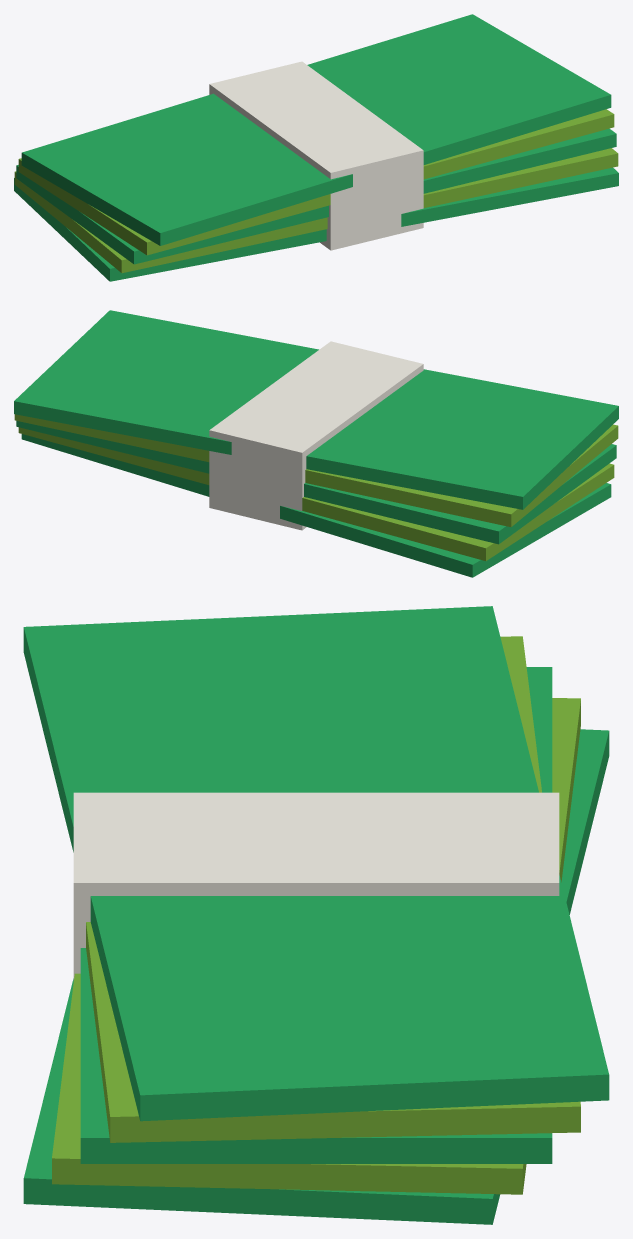
Rendered from PRP_Money.fbx.
The picture shows the model from 3 angles, top to bottom: view 1: azimuth 30°, elevation 25°; view 2: azimuth 150°, elevation 25°; view 3: azimuth 270°, elevation 25°; orthographic projection. The views are drawn at different scales.
Parts seen in each view (by area): view 1: PRP_Money; view 2: PRP_Money; view 3: PRP_Money.
Boxes of the visible parts, x1,y1,x2,y2 form: PRP_Money: (14,14,618,281); PRP_Money: (14,310,618,577); PRP_Money: (23,606,609,1224).
Size of the model in its own units: 0.162 by 0.024 by 0.0819.
